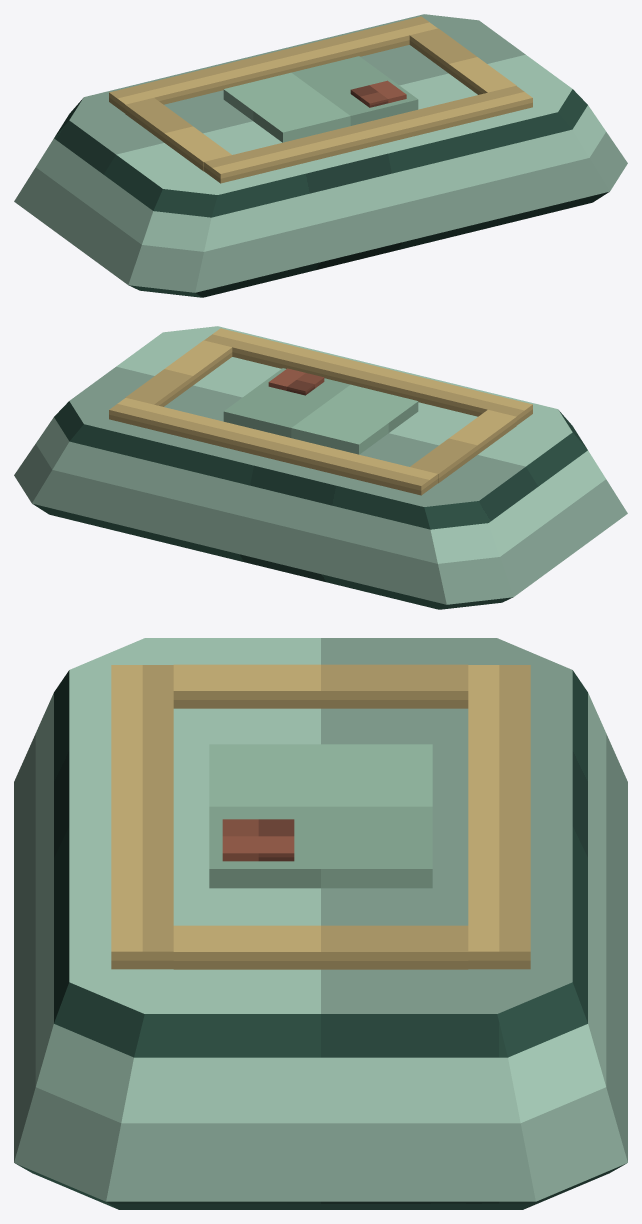
The model's file is zhuji_yuheng_yizhuang_ingot.obj.
The picture shows the model from 3 angles, top to bottom: view 1: azimuth 30°, elevation 25°; view 2: azimuth 150°, elevation 25°; view 3: azimuth 270°, elevation 25°; orthographic projection. The views are drawn at different scales.
Parts seen in each view (by area): view 1: ingot_body, yuheng_ingot_seal, yuheng_ingot_frame_0, yuheng_ingot_frame_1, yuheng_ingot_frame_2, yuheng_ingot_frame_3, yuheng_ingot_red; view 2: ingot_body, yuheng_ingot_seal, yuheng_ingot_frame_1, yuheng_ingot_frame_0, yuheng_ingot_frame_2, yuheng_ingot_frame_3, yuheng_ingot_red; view 3: ingot_body, yuheng_ingot_seal, yuheng_ingot_frame_0, yuheng_ingot_frame_1, yuheng_ingot_frame_2, yuheng_ingot_frame_3, yuheng_ingot_red.
Part boxes in pixels (x1=…): ingot_body: x1=14, y1=14, x2=627, y2=297; yuheng_ingot_seal: x1=223, y1=56, x2=418, y2=142; yuheng_ingot_frame_0: x1=204, y1=86, x2=532, y2=183; yuheng_ingot_frame_1: x1=109, y1=16, x2=437, y2=113; yuheng_ingot_frame_2: x1=125, y1=98, x2=231, y2=171; yuheng_ingot_frame_3: x1=409, y1=28, x2=516, y2=94; yuheng_ingot_red: x1=350, y1=80, x2=406, y2=107; ingot_body: x1=14, y1=326, x2=627, y2=609; yuheng_ingot_seal: x1=223, y1=368, x2=418, y2=454; yuheng_ingot_frame_1: x1=109, y1=398, x2=437, y2=495; yuheng_ingot_frame_0: x1=204, y1=328, x2=532, y2=425; yuheng_ingot_frame_2: x1=410, y1=410, x2=516, y2=483; yuheng_ingot_frame_3: x1=125, y1=340, x2=232, y2=406; yuheng_ingot_red: x1=268, y1=368, x2=324, y2=395; ingot_body: x1=14, y1=638, x2=627, y2=1209; yuheng_ingot_seal: x1=209, y1=744, x2=432, y2=888; yuheng_ingot_frame_0: x1=111, y1=665, x2=173, y2=969; yuheng_ingot_frame_1: x1=468, y1=665, x2=530, y2=969; yuheng_ingot_frame_2: x1=173, y1=664, x2=468, y2=708; yuheng_ingot_frame_3: x1=173, y1=925, x2=468, y2=969; yuheng_ingot_red: x1=222, y1=819, x2=294, y2=861.
Bounding box in the file's own units: 0.38 × 0.0756 × 0.215.
